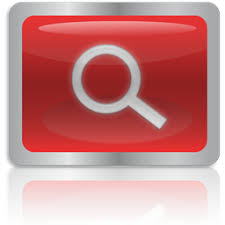searchIcon: (66, 40, 170, 133)
